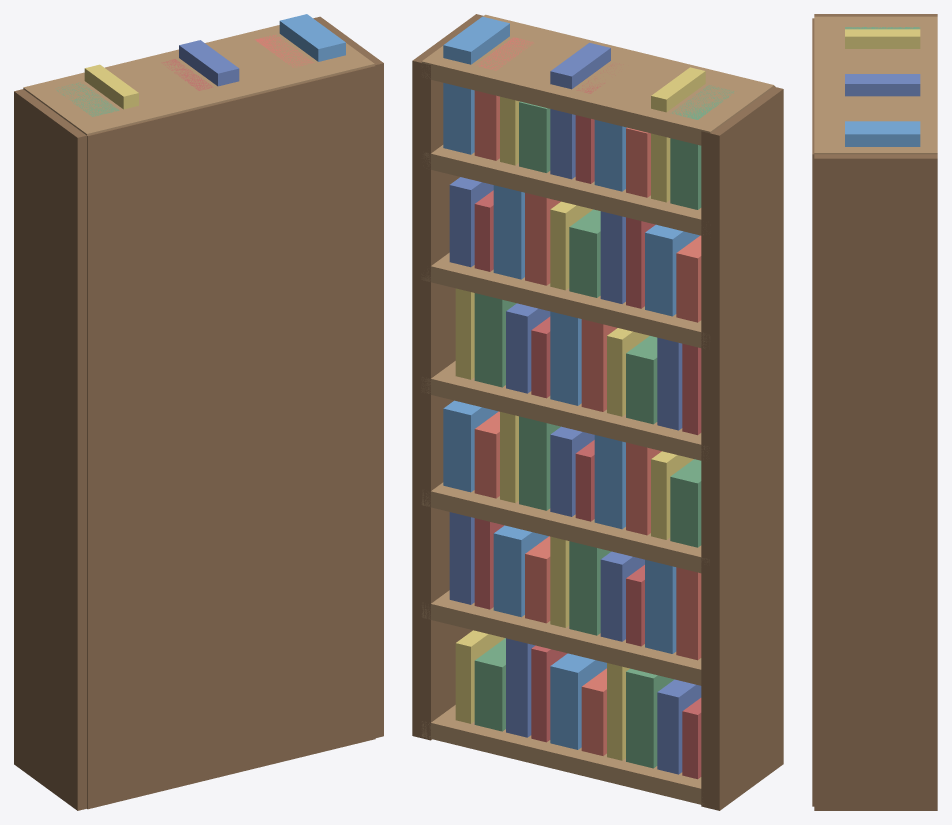
Rendered from bookcase_tall.glb.
3 renders of one model, left to right at view 1: azimuth 30°, elevation 25°; view 2: azimuth 150°, elevation 25°; view 3: azimuth 270°, elevation 25°, orthographic. The views are drawn at different scales.
Visible parts, largest first — view 1: bookcase_tall; view 2: bookcase_tall; view 3: bookcase_tall.
Boxes of the visible parts, <box> form: bookcase_tall: <box>14,14,383,810</box>; bookcase_tall: <box>412,14,783,810</box>; bookcase_tall: <box>812,14,937,810</box>.
Size of the model in its own units: 1 by 2.14 by 0.365.
